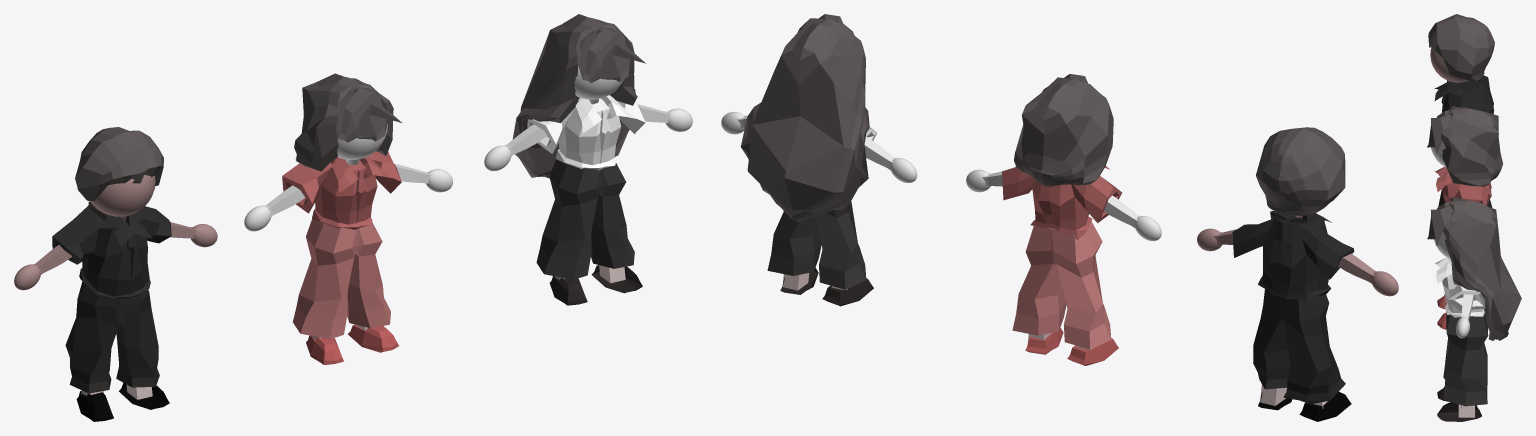
Rendered from Characters (1).fbx.
3 renders of one model, left to right at view 1: azimuth 30°, elevation 25°; view 2: azimuth 150°, elevation 25°; view 3: azimuth 270°, elevation 25°, orthographic. The views are drawn at different scales.
Visible parts, largest first — view 1: male clothes, red women clothes, white women clothes, white women hair, red women hair, male hair, male body, red women body, white women body; view 2: white women hair, male clothes, red women clothes, red women hair, white women clothes, male hair, male body, red women body, white women body; view 3: white women hair, white women clothes, red women hair, male hair, male clothes, red women clothes, white women body, male body, red women body.
Boxes of the visible parts, bbox=[...] form: male clothes: bbox=[52, 201, 171, 421]; red women clothes: bbox=[282, 151, 401, 364]; white women clothes: bbox=[527, 95, 645, 305]; white women hair: bbox=[512, 14, 645, 178]; red women hair: bbox=[294, 73, 401, 171]; male hair: bbox=[75, 127, 163, 201]; male body: bbox=[14, 175, 217, 290]; red women body: bbox=[244, 123, 452, 231]; white women body: bbox=[484, 66, 692, 171]; white women hair: bbox=[740, 14, 869, 222]; male clothes: bbox=[1232, 211, 1354, 421]; red women clothes: bbox=[1002, 166, 1122, 365]; red women hair: bbox=[1014, 74, 1113, 186]; white women clothes: bbox=[767, 127, 877, 306]; male hair: bbox=[1256, 127, 1345, 215]; male body: bbox=[1197, 203, 1398, 296]; red women body: bbox=[966, 169, 1161, 240]; white women body: bbox=[721, 112, 917, 182]; white women hair: bbox=[1427, 197, 1521, 340]; white women clothes: bbox=[1435, 257, 1488, 421]; red women hair: bbox=[1427, 106, 1502, 186]; male hair: bbox=[1428, 14, 1494, 80]; male clothes: bbox=[1434, 75, 1494, 207]; red women clothes: bbox=[1435, 166, 1491, 329]; white women body: bbox=[1434, 239, 1473, 338]; male body: bbox=[1430, 48, 1468, 82]; red women body: bbox=[1431, 147, 1446, 167].
Size of the model in its own units: 12406 by 4861 by 1957.
